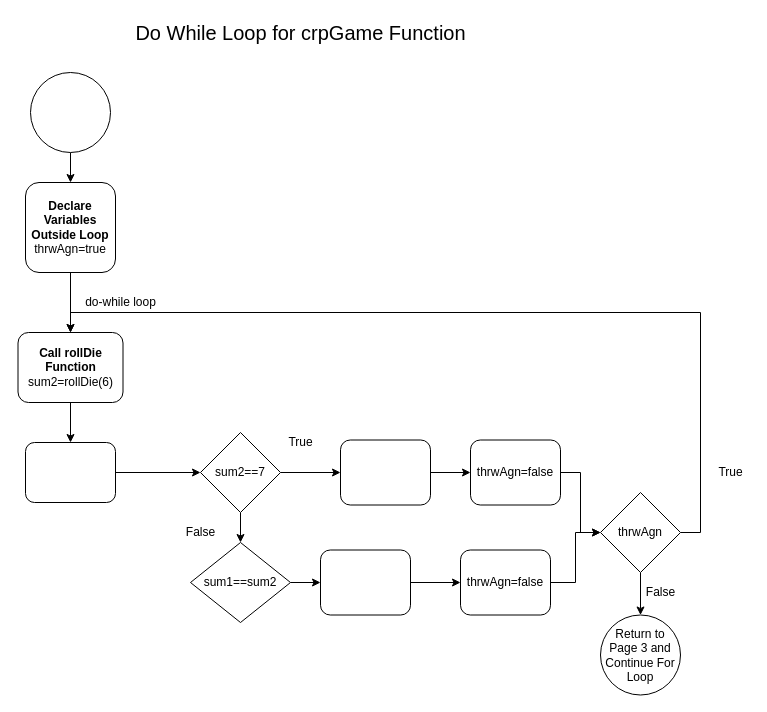
The diagram is 767 pixels wide and 712 high, and some of its shapes have lost their labels. Here are the shapes that lost their labels. From the top down, the centre of each, then its label:
At (70,112): "Page 4".
At (70,472): "Increment # Throws gmThrw++".
At (385,472): "Add Value to Losses losses[sum1]++".
At (365,582): "Add Value to Wins wins[sum1]++".
